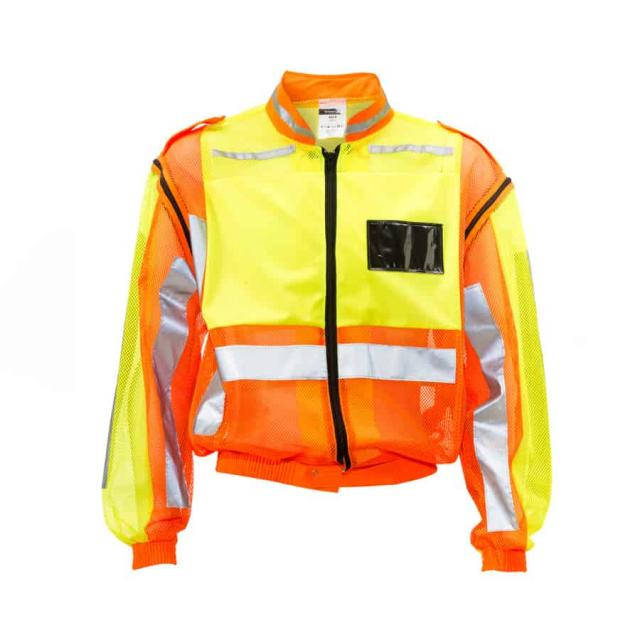Reflective-Jacket: (36, 82, 582, 508)
